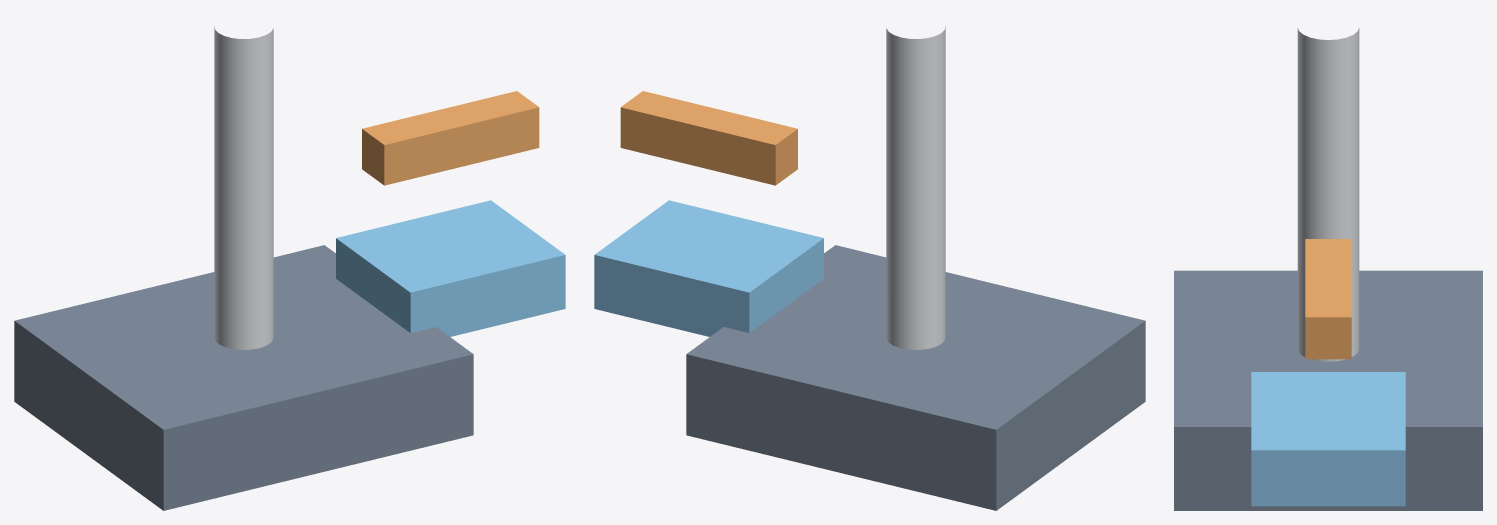
The model's file is comparators_surface_roughness.glb.
The picture shows the model from 3 angles, left to right: view 1: azimuth 30°, elevation 25°; view 2: azimuth 150°, elevation 25°; view 3: azimuth 270°, elevation 25°; orthographic projection. The views are drawn at different scales.
Visible parts, largest first — view 1: HeavyComparatorStandBase, StandardSurfaceSpecimenBlock, PneumaticDialAirGaugeColumn, StylusSurfaceRoughnessPickup; view 2: HeavyComparatorStandBase, StandardSurfaceSpecimenBlock, PneumaticDialAirGaugeColumn, StylusSurfaceRoughnessPickup; view 3: HeavyComparatorStandBase, StandardSurfaceSpecimenBlock, PneumaticDialAirGaugeColumn, StylusSurfaceRoughnessPickup.
Part boxes in pixels (x1,y1,x2,y2): HeavyComparatorStandBase: (14,245,473,510); StandardSurfaceSpecimenBlock: (336,200,565,336); PneumaticDialAirGaugeColumn: (214,26,273,349); StylusSurfaceRoughnessPickup: (362,91,539,185); HeavyComparatorStandBase: (686,245,1145,510); StandardSurfaceSpecimenBlock: (594,200,823,336); PneumaticDialAirGaugeColumn: (886,26,945,349); StylusSurfaceRoughnessPickup: (620,91,797,185); HeavyComparatorStandBase: (1174,270,1482,510); StandardSurfaceSpecimenBlock: (1251,372,1405,506); PneumaticDialAirGaugeColumn: (1297,28,1359,361); StylusSurfaceRoughnessPickup: (1305,239,1351,359).
Bounding box in the file's own units: 1.7 × 1.45 × 1.
